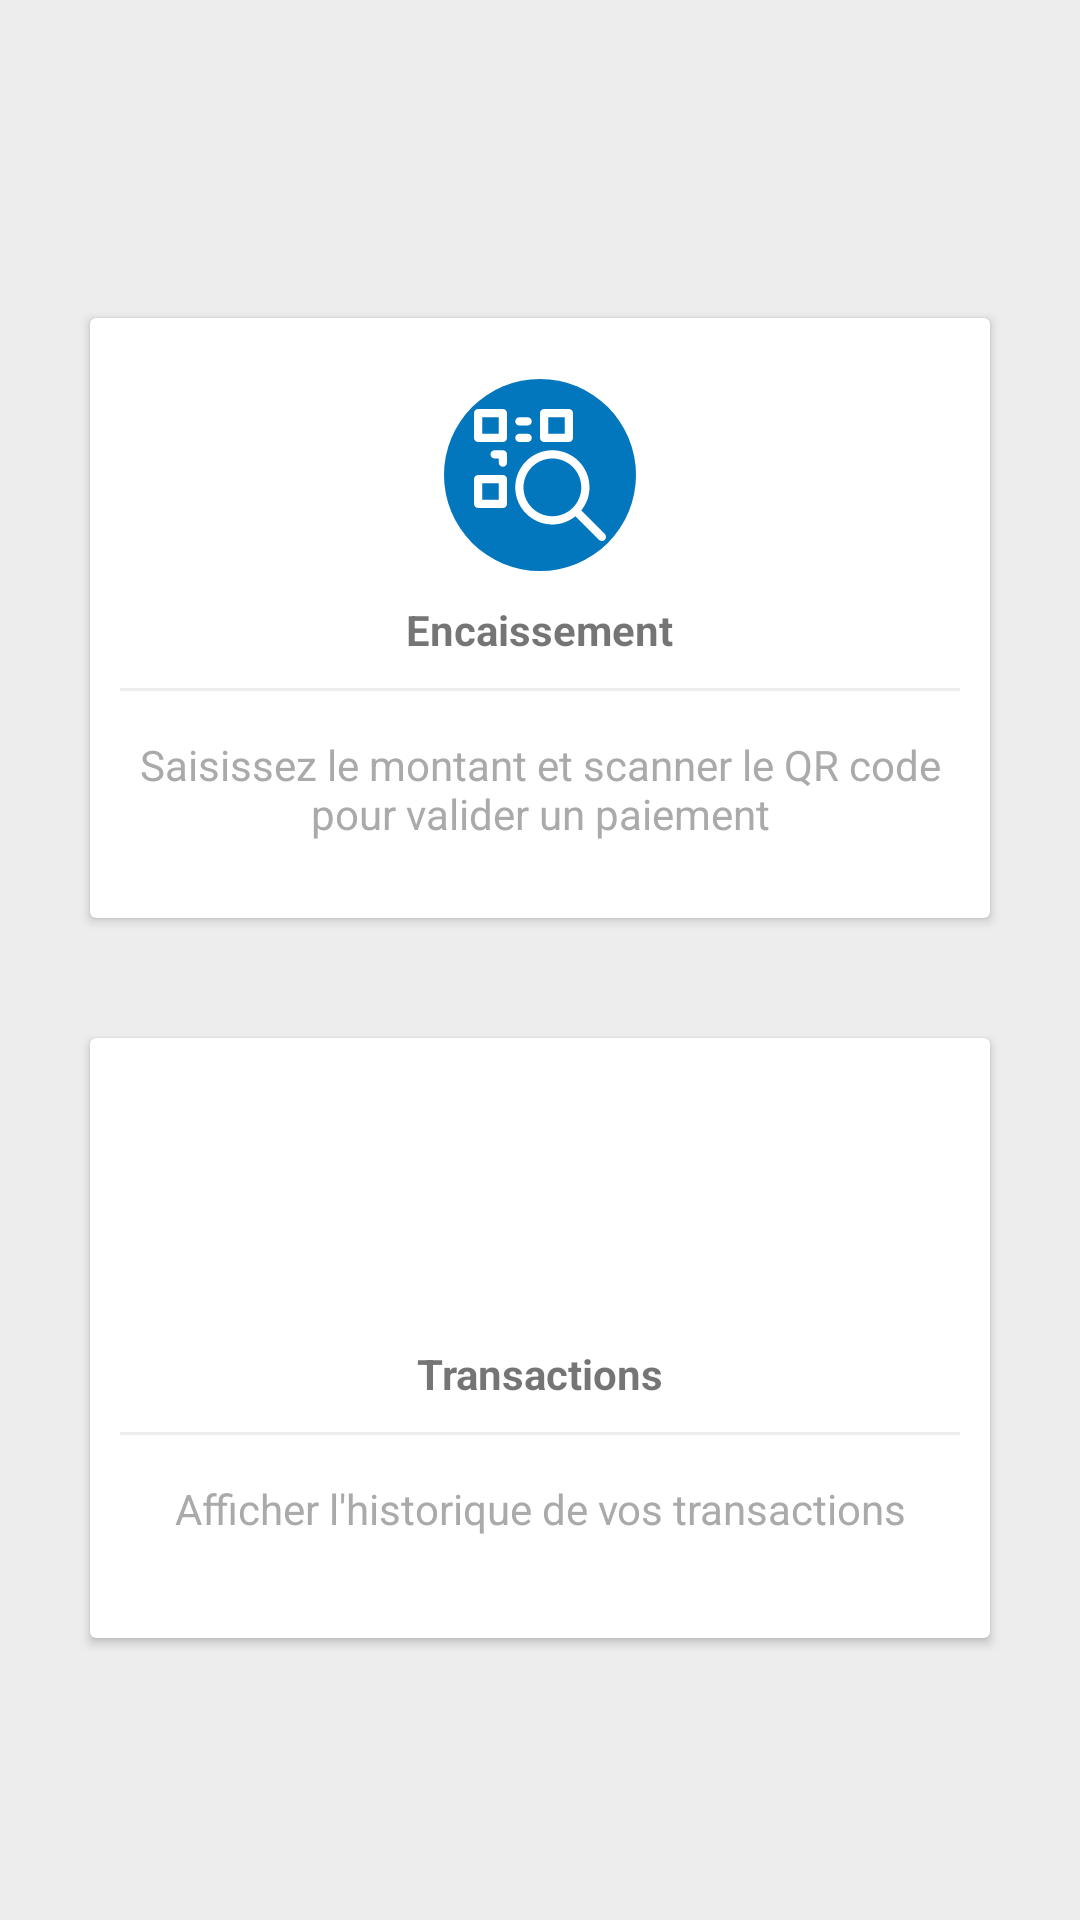

Icons on this 1080*1920 Android screen, each with its box as detection(x1, y1, x2, y2):
qr code lectutre: detection(444, 379, 636, 571)
